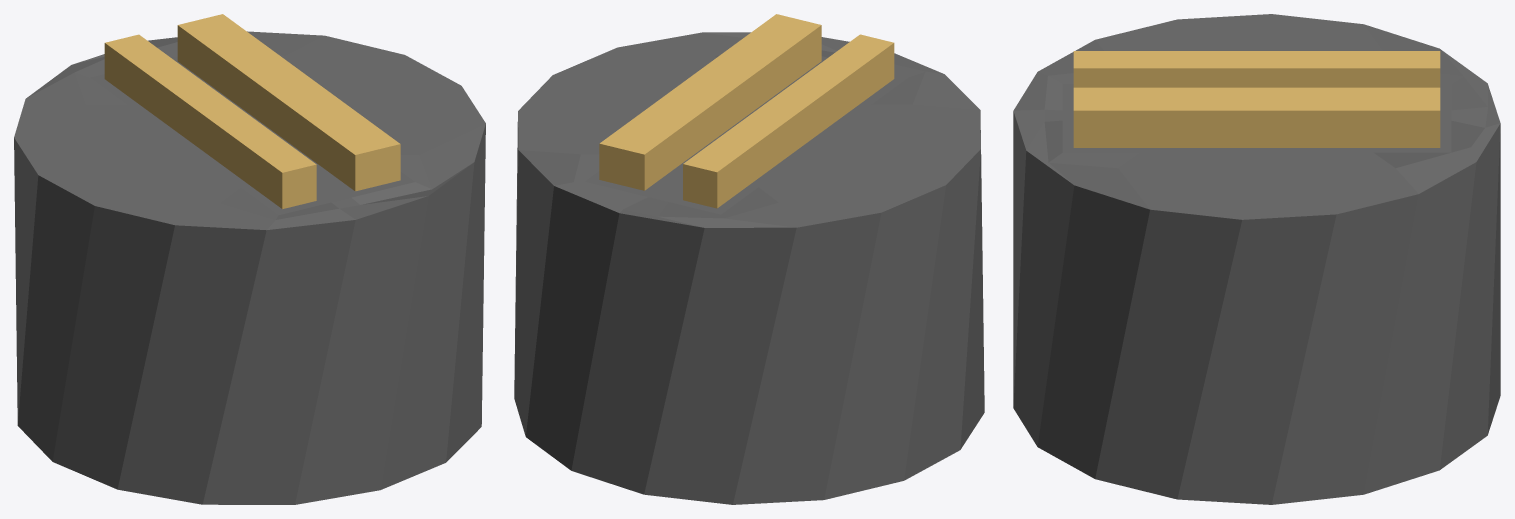
File: pickupmunicion.fbx
The picture shows the model from 3 angles, left to right: view 1: azimuth 30°, elevation 25°; view 2: azimuth 150°, elevation 25°; view 3: azimuth 270°, elevation 25°; orthographic projection. The views are drawn at different scales.
Visible parts, largest first — view 1: Cube; view 2: Cube; view 3: Cube.
Part boxes in pixels (left/top/right/bottom): Cube: left=14, top=14, right=485, bottom=504; Cube: left=514, top=14, right=984, bottom=504; Cube: left=1013, top=14, right=1500, bottom=504.
Bounding box in the file's own units: 310 × 226 × 310.
